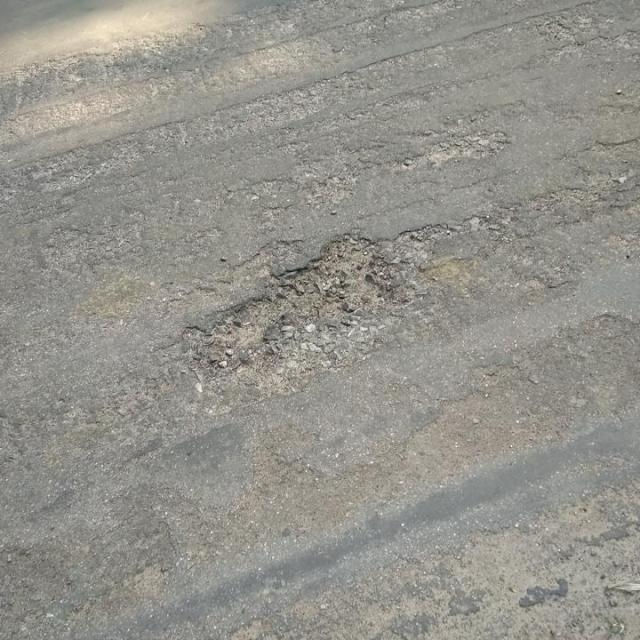Pothole: (192, 228, 444, 384), (446, 392, 450, 394)
